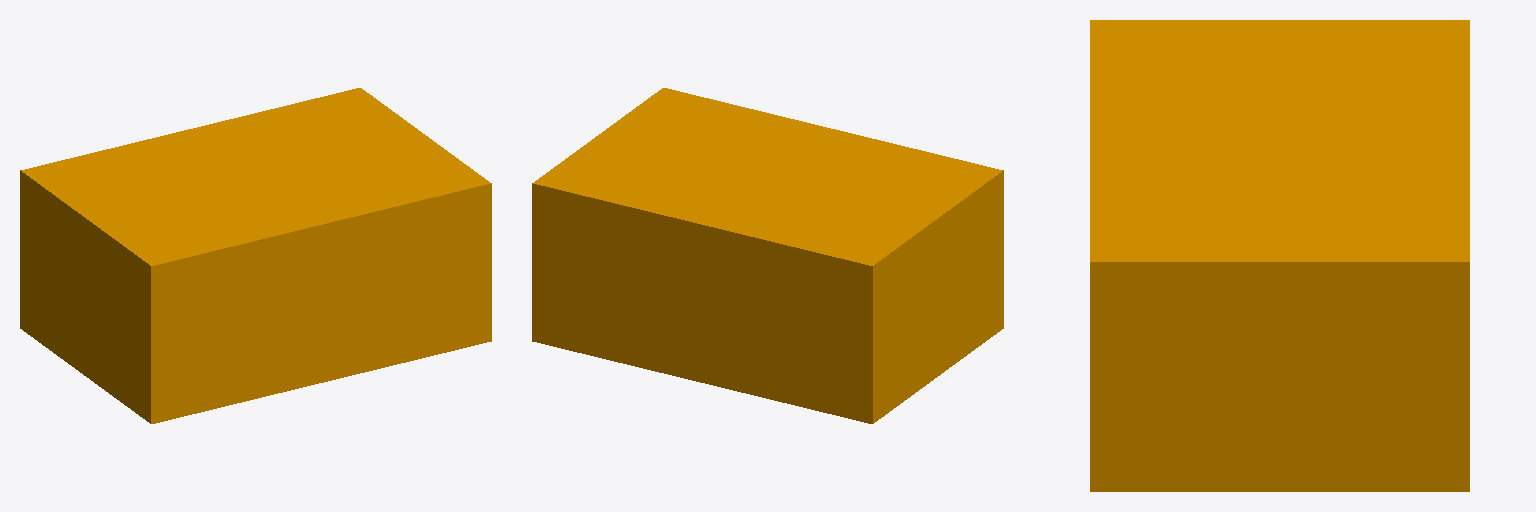
robot.urdf — 2x2:
<?xml version='1.0' encoding='UTF-8'?>
<robot name="2x2">
  <link name="base_link">
    <inertial>
      <origin xyz="0.0 0.0 0.0" rpy="0.0 0.0 0.0"/>
      <mass value="0.01"/>
      <inertia ixx="0.1" ixy="0.0" ixz="0.0" iyy="0.1" iyz="0.0" izz="0.1"/>
    </inertial>
    <visual>
      <geometry>
        <box size="0.027 0.018 0.012"/>
      </geometry>
      <material name=""/>
      <origin xyz="0.0 0.0 0.0" rpy="0.0 0.0 0.0"/>
    </visual>
    <collision>
      <geometry>
        <box size="0.027 0.018 0.012"/>
      </geometry>
      <origin xyz="0.0 0.0 0.0" rpy="0.0 0.0 0.0"/>
    </collision>
  </link>
  <material name="">
    <color rgba="0.2543715  0.0477441  0.20934249 1.        "/>
  </material>
  <contact>
    <lateral_friction value="1.0"/>
    <rolling_friction value="0.0"/>
    <contact_cfm value="0.0"/>
    <contact_erp value="1.0"/>
  </contact>
</robot>

--- Render facts (derived) ---
3 views of the same robot in one strip: view 1: azimuth 30°, elevation 25°; view 2: azimuth 150°, elevation 25°; view 3: azimuth 270°, elevation 25° (orthographic).
Model 2x2 with 1 links and 0 joints (none), rooted at base_link, posed all joints at 0.
Visible links, largest first — view 1: base_link; view 2: base_link; view 3: base_link.
Link boxes in pixels (<box>): base_link: <box>20,88,491,423</box>; base_link: <box>532,88,1003,423</box>; base_link: <box>1090,20,1469,491</box>.
Size in the robot's own frame: 0.027 by 0.018 by 0.012 metres.
Geometry: primitives only (box / cylinder / sphere), no mesh files.